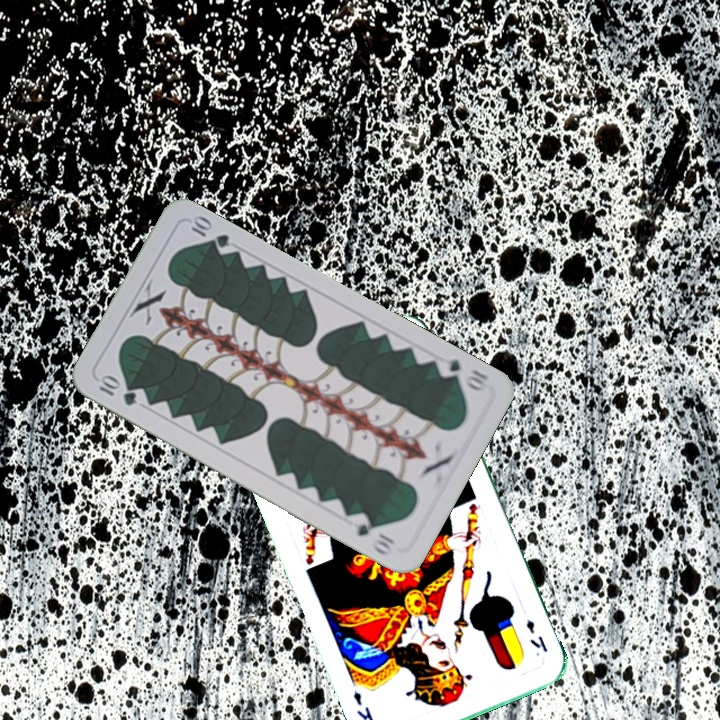EK: (522, 615, 550, 655)
G10: (433, 355, 492, 396), (95, 372, 139, 409)
